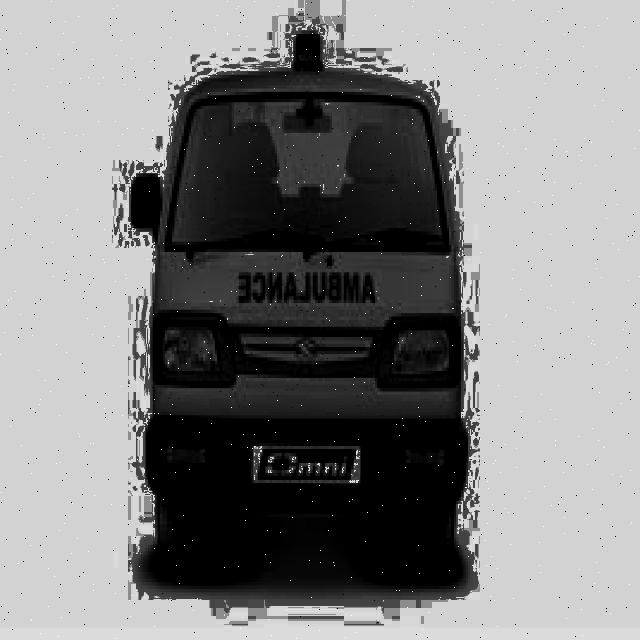LCV: (130, 35, 466, 504)
